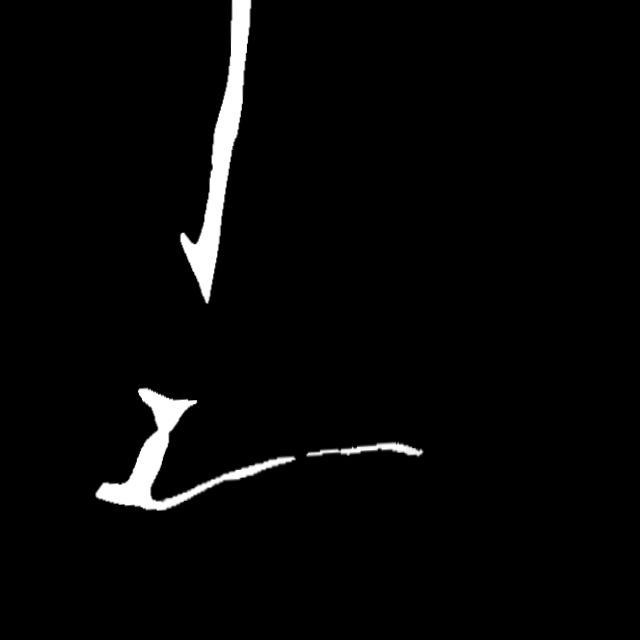sup: (285, 450, 316, 473)
